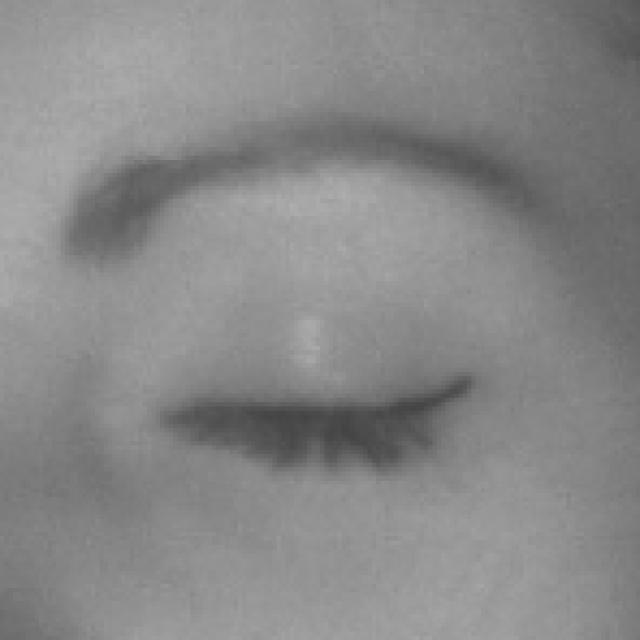Eyeclosed: (160, 297, 474, 568)
